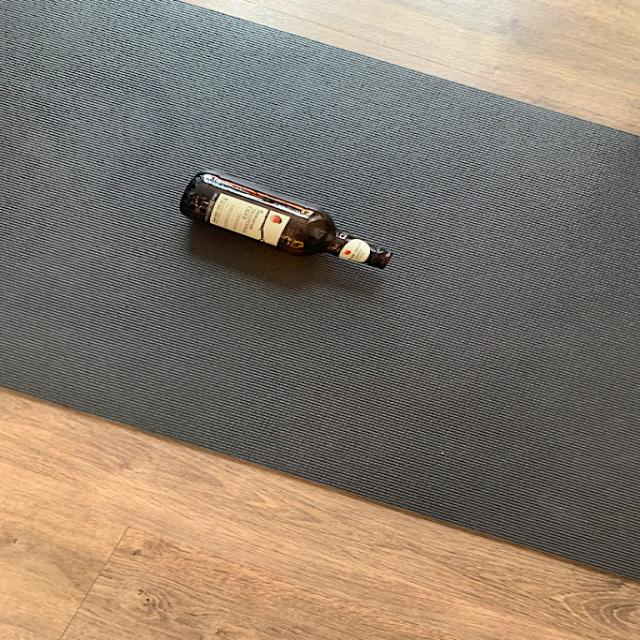litter: (176, 170, 395, 274)
